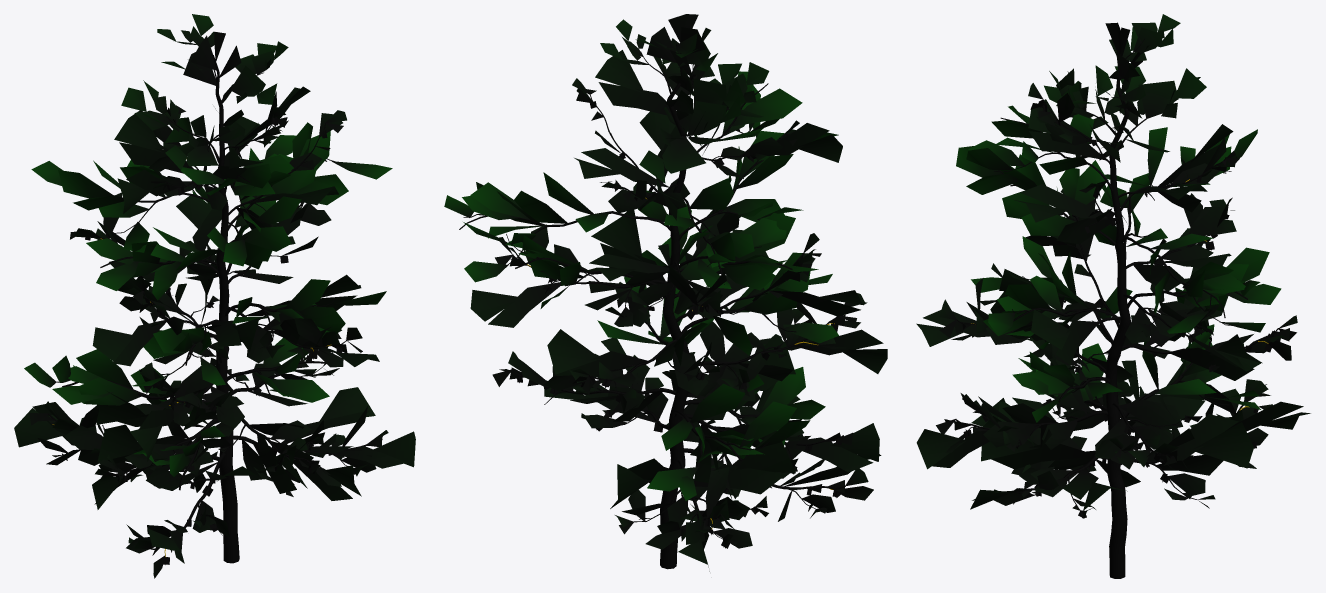
Rendered from Pine_beach_medium_04.fbx.
The picture shows the model from 3 angles, left to right: view 1: azimuth 30°, elevation 25°; view 2: azimuth 150°, elevation 25°; view 3: azimuth 270°, elevation 25°; orthographic projection. The views are drawn at different scales.
Visible parts, largest first — view 1: pine_beach_medium_04_LOD0; view 2: pine_beach_medium_04_LOD0; view 3: pine_beach_medium_04_LOD0.
Boxes of the visible parts, box(x1,y1,x2,y2) form: pine_beach_medium_04_LOD0: box(14, 14, 415, 578); pine_beach_medium_04_LOD0: box(444, 14, 887, 571); pine_beach_medium_04_LOD0: box(916, 14, 1310, 578).
Size of what is drawn, in the model's own units: 335 by 475 by 313.
